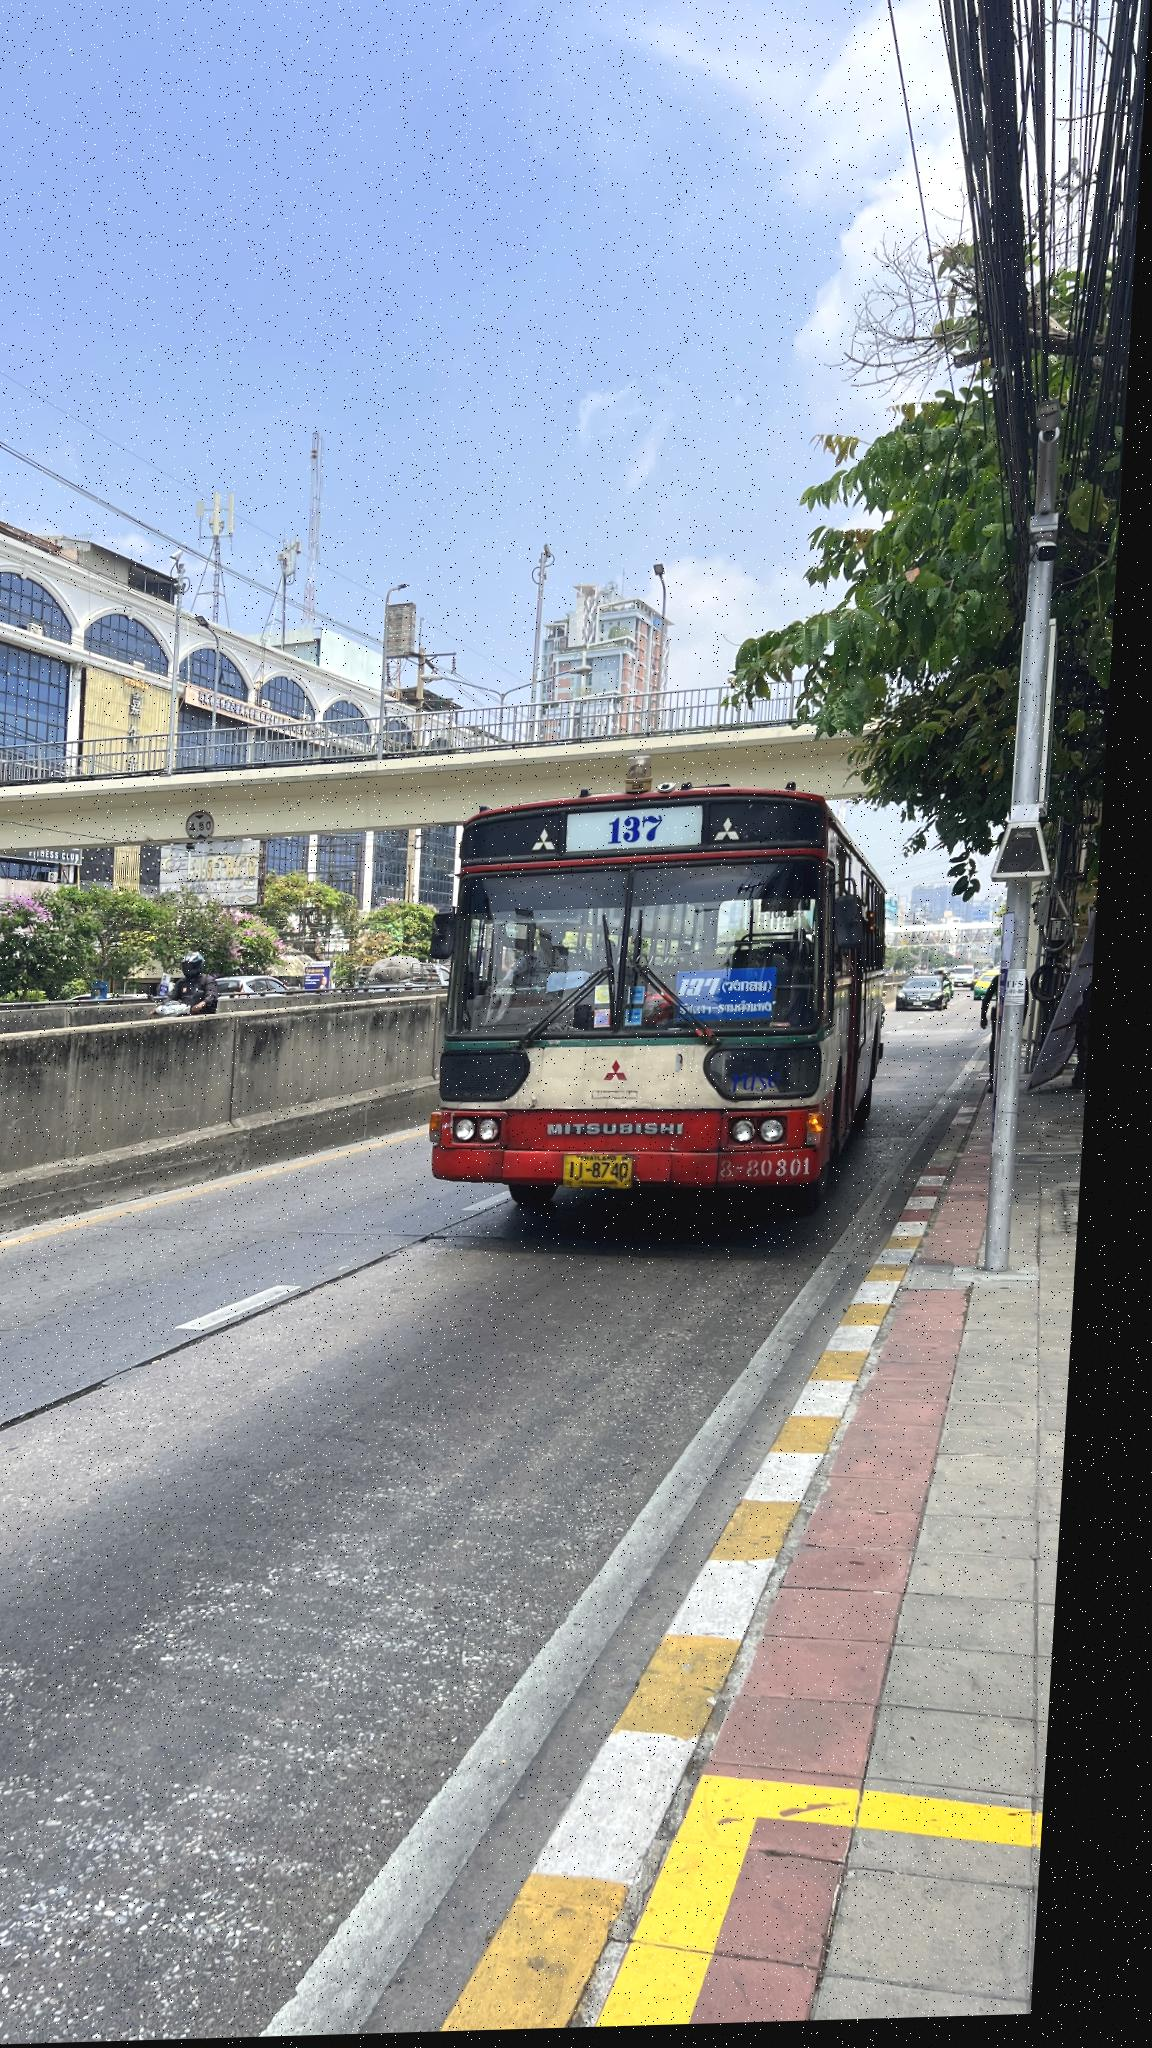BMTA-bus: (442, 772, 907, 1224)
Bus Line Number: (609, 810, 678, 854)
Bus Side Number: (730, 1158, 827, 1190)
Destination Sign: (688, 972, 792, 1027)
